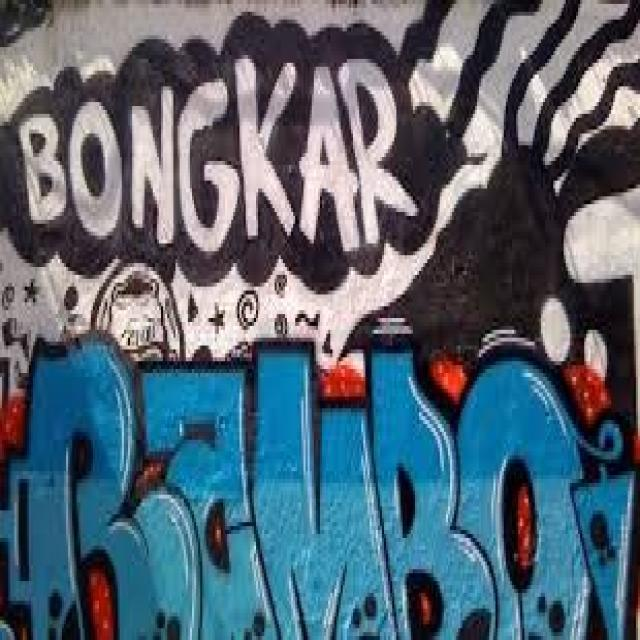-: (0, 340, 640, 640), (17, 51, 420, 254)
